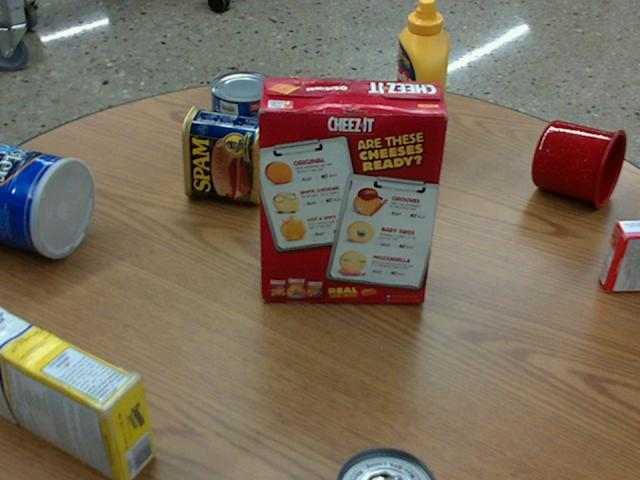cracker_box: (257, 77, 449, 300)
gelatin_box: (601, 223, 639, 294)
master_chef_can: (0, 142, 97, 257)
mug: (532, 120, 625, 208)
mustard_bottle: (392, 0, 449, 162)
potted_meat_can: (182, 104, 268, 201)
sugar_box: (0, 305, 155, 479)
tomato_soup_can: (338, 447, 438, 479)
tuna_fish_can: (211, 68, 277, 122)
